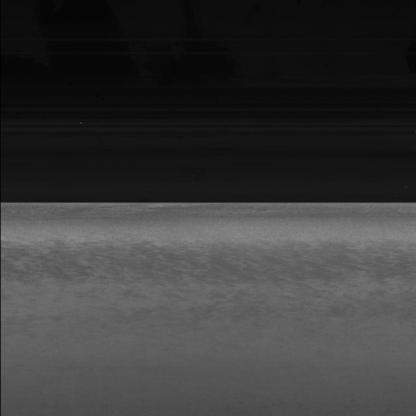silk_spot: (150, 251, 267, 316)
